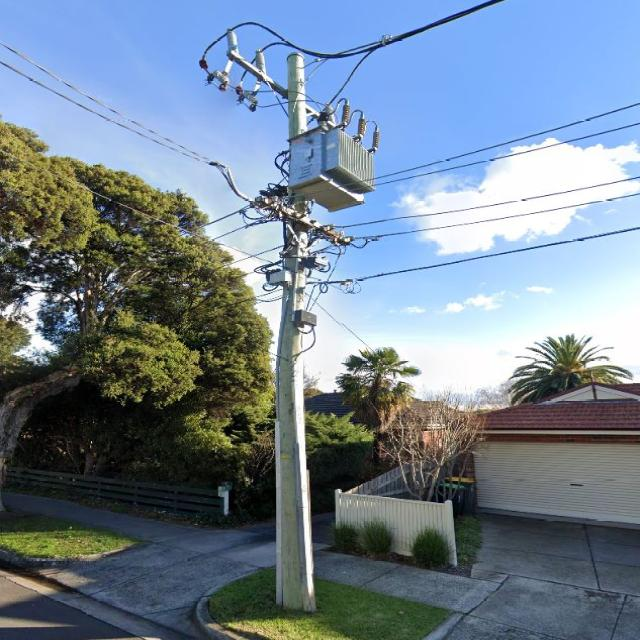HV-transmission: (200, 24, 332, 124)
LV link: (339, 236, 381, 249)
LV link box: (305, 247, 331, 272)
crossarm: (251, 196, 355, 248), (222, 27, 292, 100)
timber-pole: (273, 53, 321, 612)
transformer: (288, 103, 380, 212)
